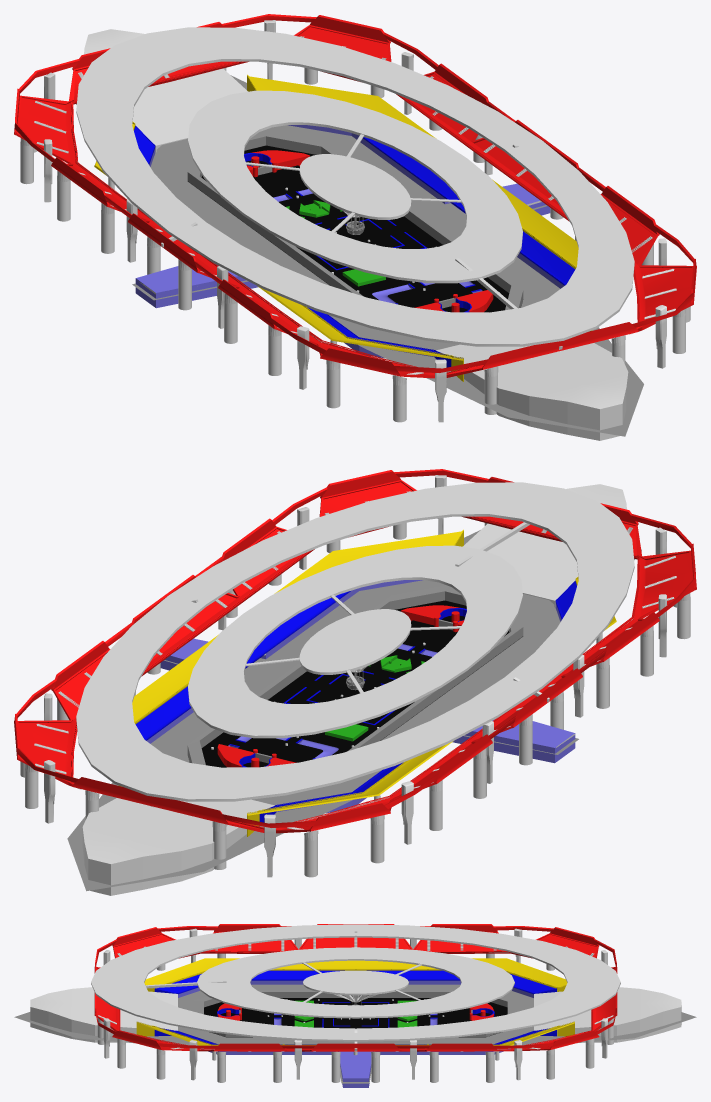
Rendered from Blockout13.FBX.
3 views of the same model, one above another, from view 1: azimuth 30°, elevation 25°; view 2: azimuth 150°, elevation 25°; view 3: azimuth 270°, elevation 25° (orthographic). The views are drawn at different scales.
Visible parts, largest first — view 1: Cylinder098, Box162, Plane002, Gradin_3, Box140, Gradin_2, Box148, Object111, Plane003, Box161, Box149, Object116 (+15 smaller); view 2: Cylinder098, Box162, Plane002, Gradin_3, Box140, Gradin_2, Box148, Object111, Plane003, Box161, Box149, Object116 (+14 smaller); view 3: Cylinder098, Box162, Plane002, Box148, Gradin_2, Box140, Gradin_3, Plane003, Box161, Object116, Object111, Box149 (+17 smaller).
Part boxes in pixels (x1=…): Cylinder098: x1=76, y1=27, x2=634, y2=346; Box162: x1=84, y1=29, x2=628, y2=440; Plane002: x1=76, y1=75, x2=643, y2=436; Gradin_3: x1=14, y1=15, x2=696, y2=378; Box140: x1=188, y1=145, x2=509, y2=312; Gradin_2: x1=51, y1=63, x2=659, y2=345; Box148: x1=94, y1=76, x2=592, y2=381; Object111: x1=187, y1=130, x2=523, y2=310; Plane003: x1=135, y1=125, x2=563, y2=358; Box161: x1=134, y1=127, x2=575, y2=367; Box149: x1=69, y1=22, x2=642, y2=377; Object116: x1=128, y1=120, x2=578, y2=287; Cylinder098: x1=76, y1=482, x2=634, y2=801; Box162: x1=82, y1=484, x2=626, y2=895; Plane002: x1=67, y1=530, x2=641, y2=891; Gradin_3: x1=14, y1=470, x2=696, y2=833; Box140: x1=201, y1=600, x2=522, y2=767; Gradin_2: x1=51, y1=518, x2=659, y2=800; Box148: x1=118, y1=531, x2=616, y2=836; Object111: x1=187, y1=585, x2=523, y2=765; Plane003: x1=147, y1=580, x2=575, y2=813; Box161: x1=135, y1=582, x2=576, y2=822; Box149: x1=68, y1=477, x2=641, y2=832; Object116: x1=132, y1=575, x2=582, y2=742; Cylinder098: x1=91, y1=924, x2=620, y2=1041; Box162: x1=30, y1=987, x2=681, y2=1042; Plane002: x1=14, y1=984, x2=696, y2=1083; Box148: x1=136, y1=958, x2=574, y2=1045; Gradin_2: x1=199, y1=924, x2=512, y2=1051; Box140: x1=204, y1=998, x2=507, y2=1037; Gradin_3: x1=112, y1=927, x2=599, y2=1051; Plane003: x1=178, y1=980, x2=533, y2=1087; Box161: x1=154, y1=970, x2=556, y2=1044; Object116: x1=299, y1=924, x2=412, y2=1051; Object111: x1=192, y1=990, x2=519, y2=1036; Box149: x1=94, y1=962, x2=617, y2=1031.
Size of the model in its own units: 125975 by 18883 by 273658.
